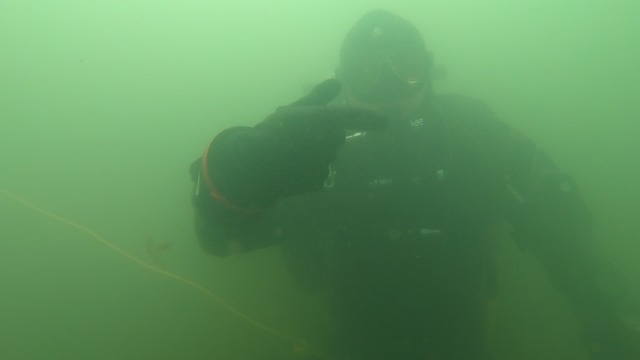Diver: (173, 9, 631, 348)
Hand: (198, 65, 398, 215)
Head: (322, 17, 450, 162)
